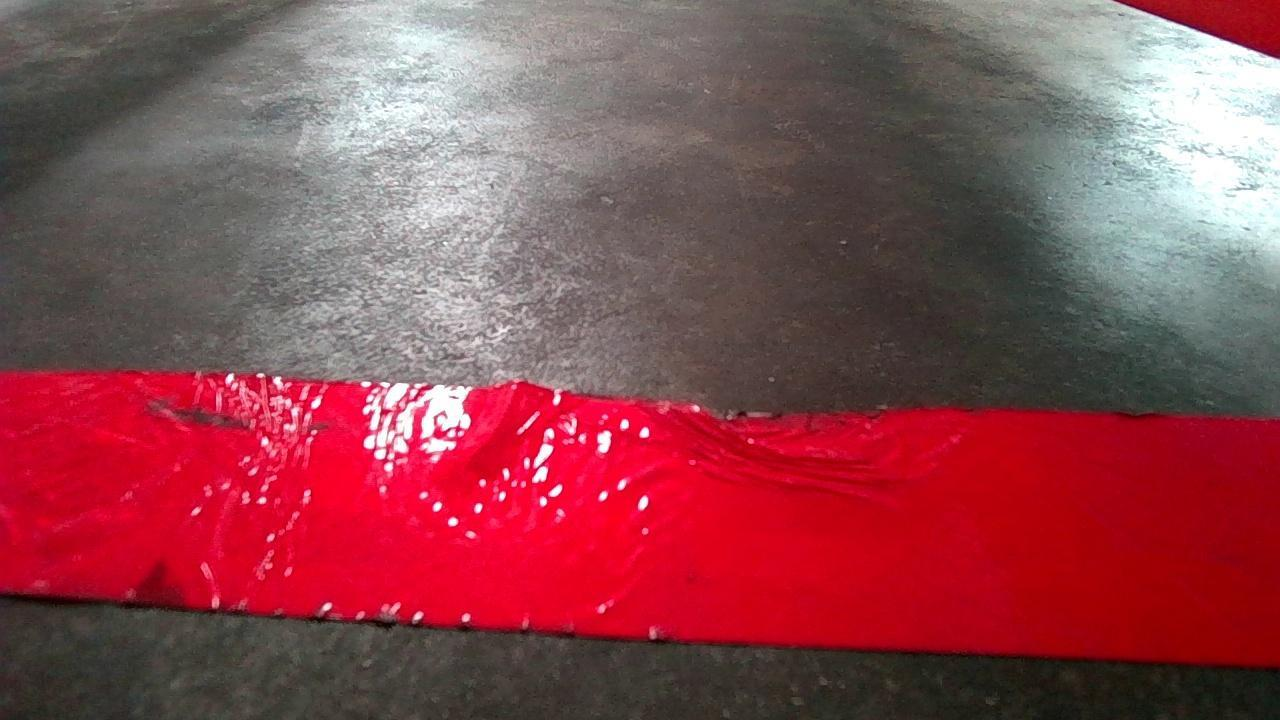red_line: (43, 347, 1265, 666)
